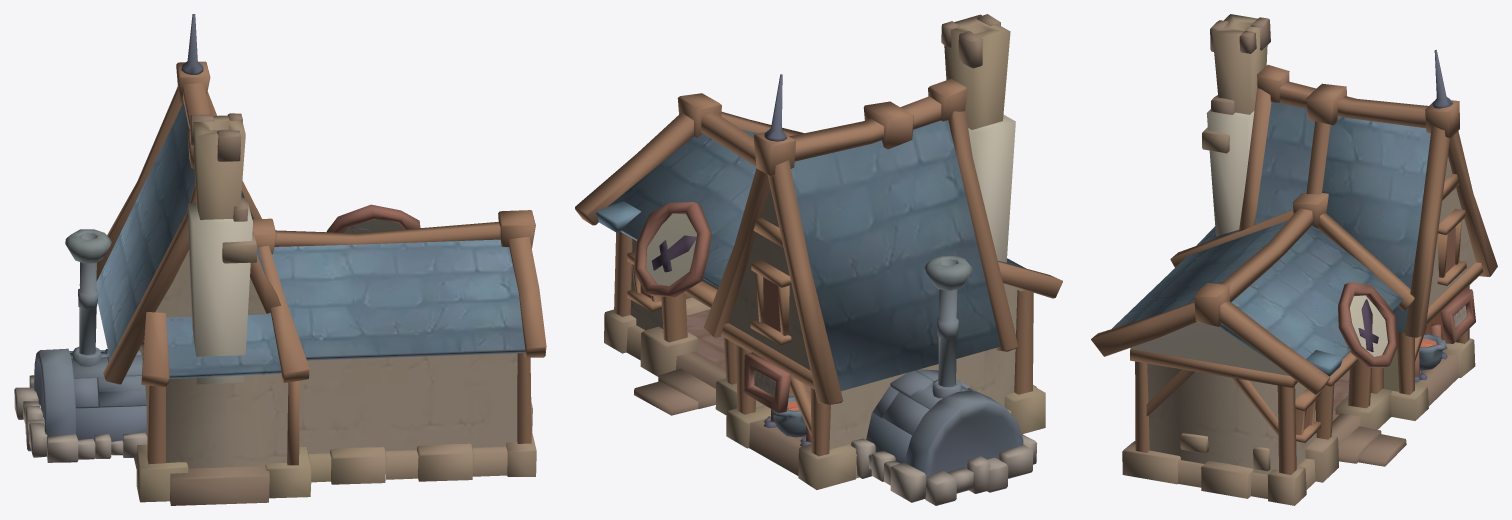
File: Gearshop.glb
The picture shows the model from 3 angles, left to right: view 1: azimuth 30°, elevation 25°; view 2: azimuth 150°, elevation 25°; view 3: azimuth 270°, elevation 25°; orthographic projection. The views are drawn at different scales.
Visible parts, largest first — view 1: ct_town_gearshop; view 2: ct_town_gearshop; view 3: ct_town_gearshop.
Boxes of the visible parts, bbox=[...] form: ct_town_gearshop: bbox=[14, 14, 546, 505]; ct_town_gearshop: bbox=[575, 14, 1062, 505]; ct_town_gearshop: bbox=[1091, 14, 1497, 505].
Size of the model in its own units: 15.9 by 12.46 by 13.2.
1 material, 1 textured.
